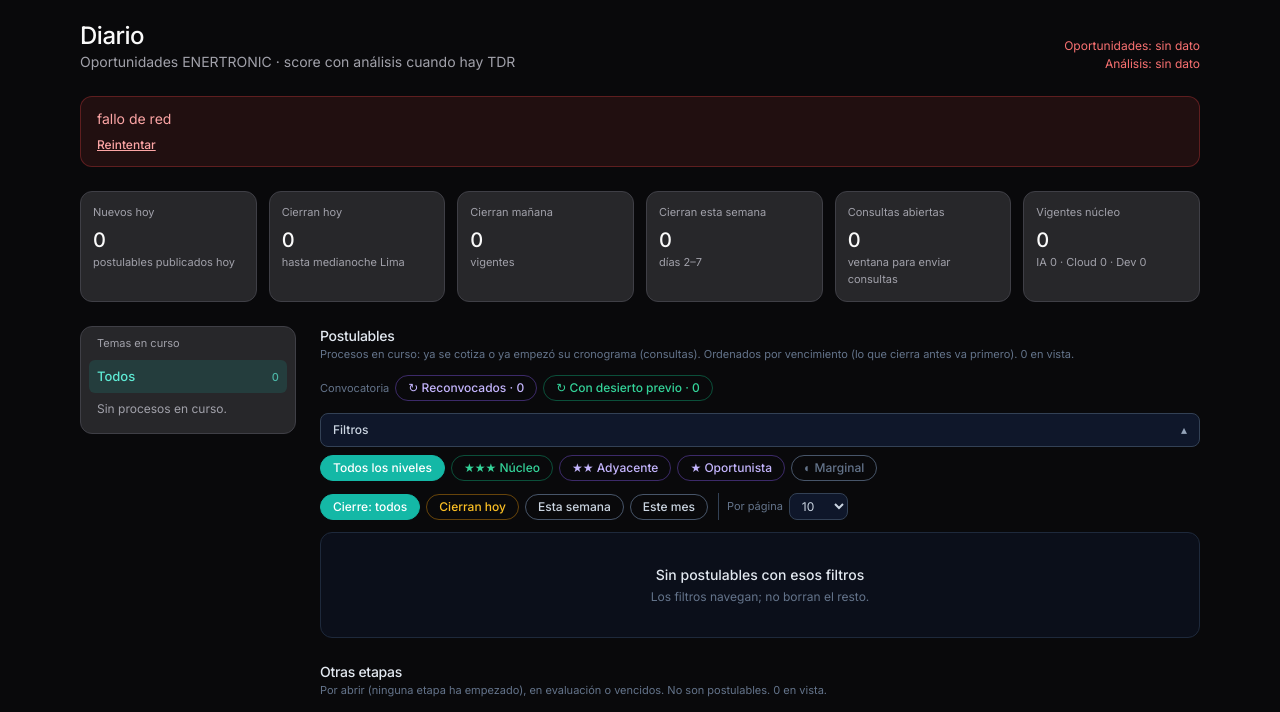
Test: Diario: errores de carga recuperables › fallo del universo: reintentar vuelve a cargar sin recargar la página
Check: the text "fallo de red" is shown, box [97,110,171,127]
Click the button "Reintentar": (126, 145) [97,137,156,153]
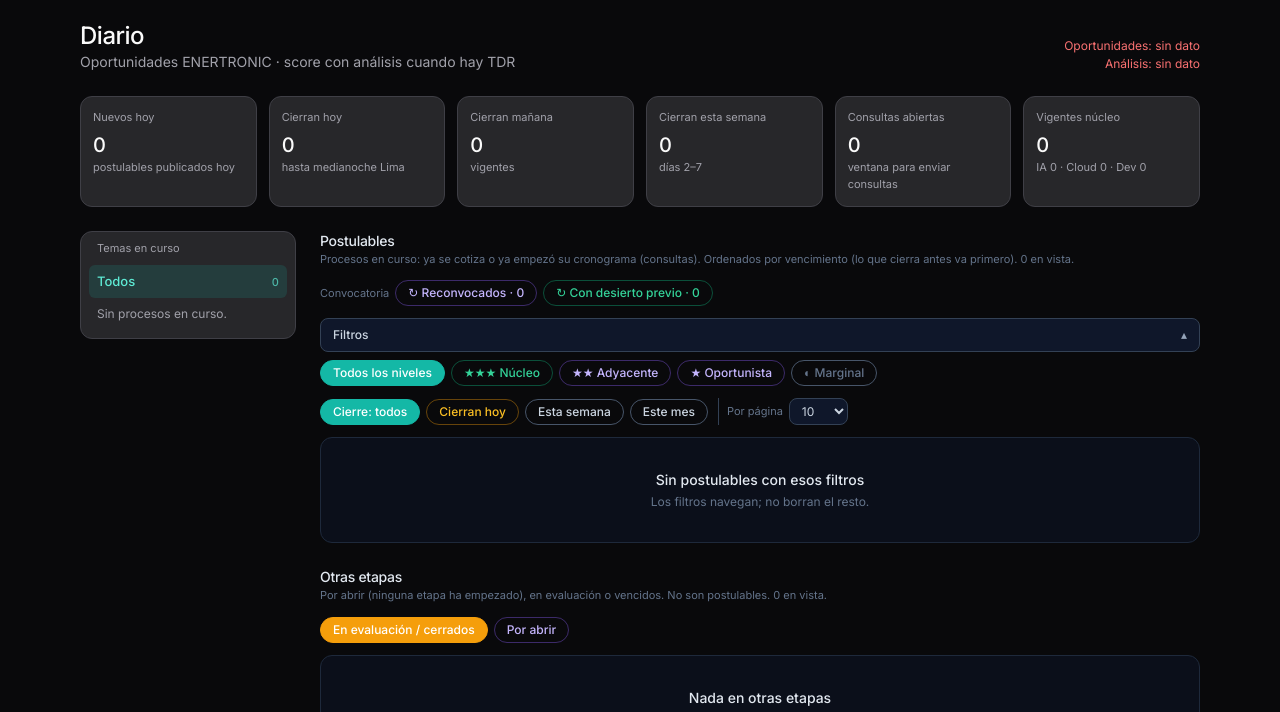
Check: the text "Nuevos hoy" is shown, box [93,110,154,124]
Check: the text "fallo de red" is gone
